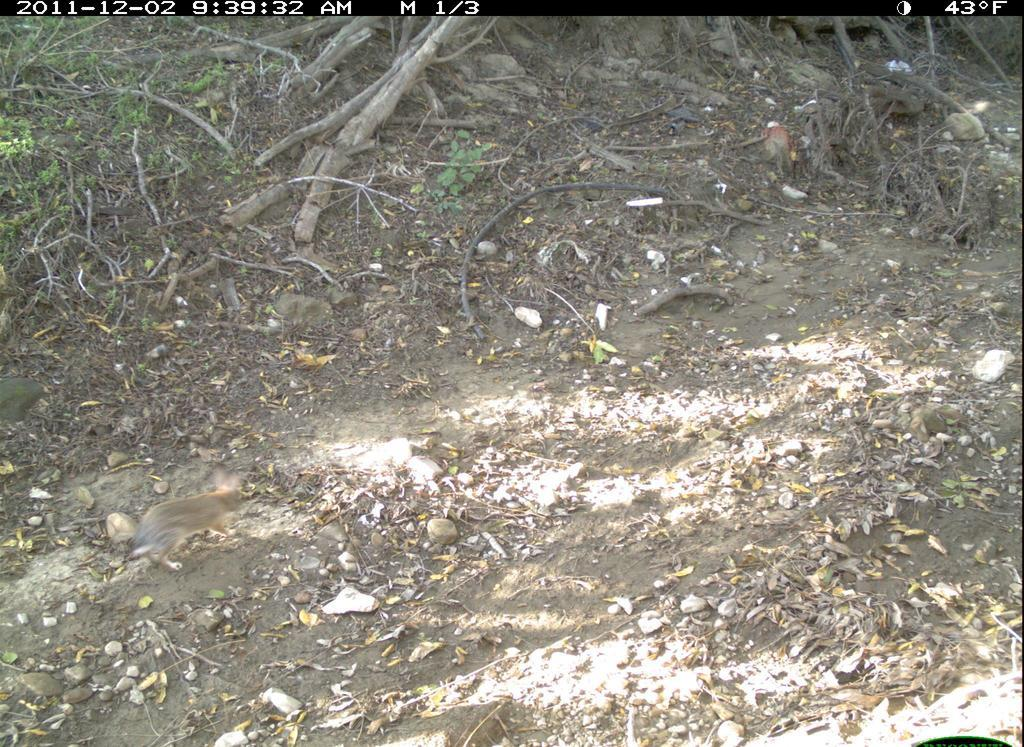rabbit: (122, 460, 254, 575)
